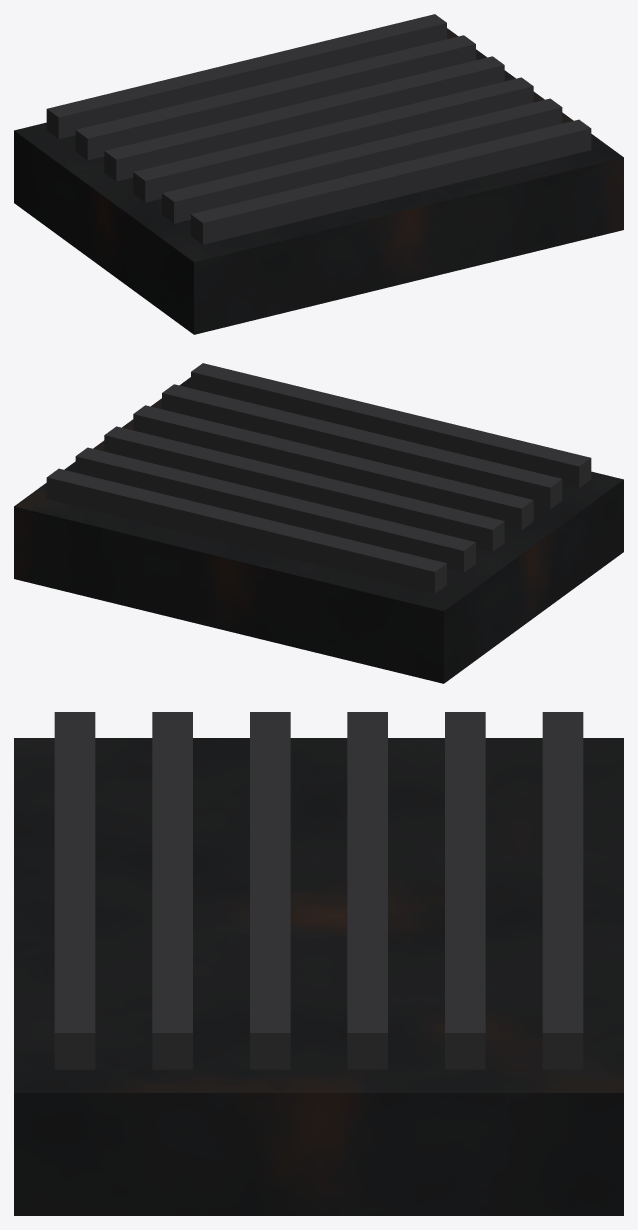
Rendered from A_gully.glb.
The picture shows the model from 3 angles, top to bottom: view 1: azimuth 30°, elevation 25°; view 2: azimuth 150°, elevation 25°; view 3: azimuth 270°, elevation 25°; orthographic projection. The views are drawn at different scales.
Visible parts, largest first — view 1: A_gully; view 2: A_gully; view 3: A_gully.
Boxes of the visible parts, bbox=[...] form: A_gully: bbox=[14, 14, 623, 334]; A_gully: bbox=[14, 363, 623, 683]; A_gully: bbox=[14, 712, 623, 1215].
Size of the model in its own units: 0.62 by 0.135 by 0.45.
Materials: 2 (1 with a texture image).
